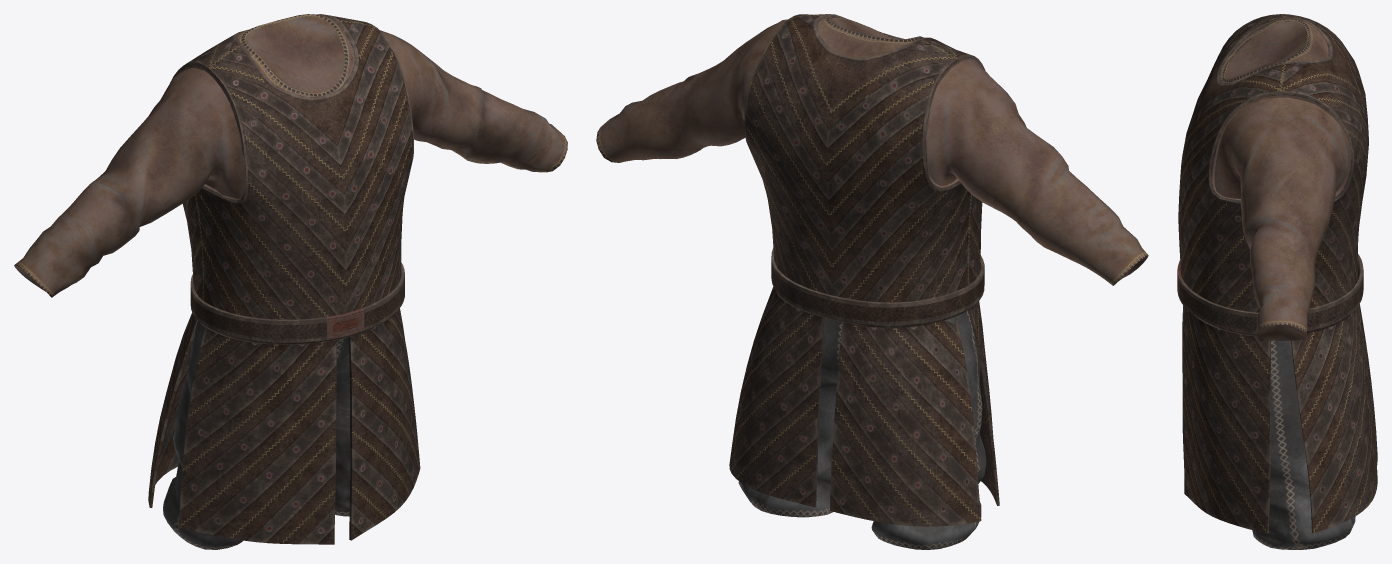
The model's file is sk_dwarf_iron_chest_light_a.fbx.
3 views of the same model, side by side, from view 1: azimuth 30°, elevation 25°; view 2: azimuth 150°, elevation 25°; view 3: azimuth 270°, elevation 25° (orthographic). The views are drawn at different scales.
Parts seen in each view (by area): view 1: sk_dwarf_iron_chest_light_a.1, sk_dwarf_iron_chest_light_a.0; view 2: sk_dwarf_iron_chest_light_a.1, sk_dwarf_iron_chest_light_a.0; view 3: sk_dwarf_iron_chest_light_a.1, sk_dwarf_iron_chest_light_a.0.
Part boxes in pixels (<box>): sk_dwarf_iron_chest_light_a.1: <box>14,14,567,544</box>; sk_dwarf_iron_chest_light_a.0: <box>163,317,350,549</box>; sk_dwarf_iron_chest_light_a.1: <box>596,14,1148,526</box>; sk_dwarf_iron_chest_light_a.0: <box>738,310,986,549</box>; sk_dwarf_iron_chest_light_a.1: <box>1177,14,1377,533</box>; sk_dwarf_iron_chest_light_a.0: <box>1252,340,1355,549</box>.
Bounding box in the file's own units: 1.17 × 0.3907 × 1.02.
